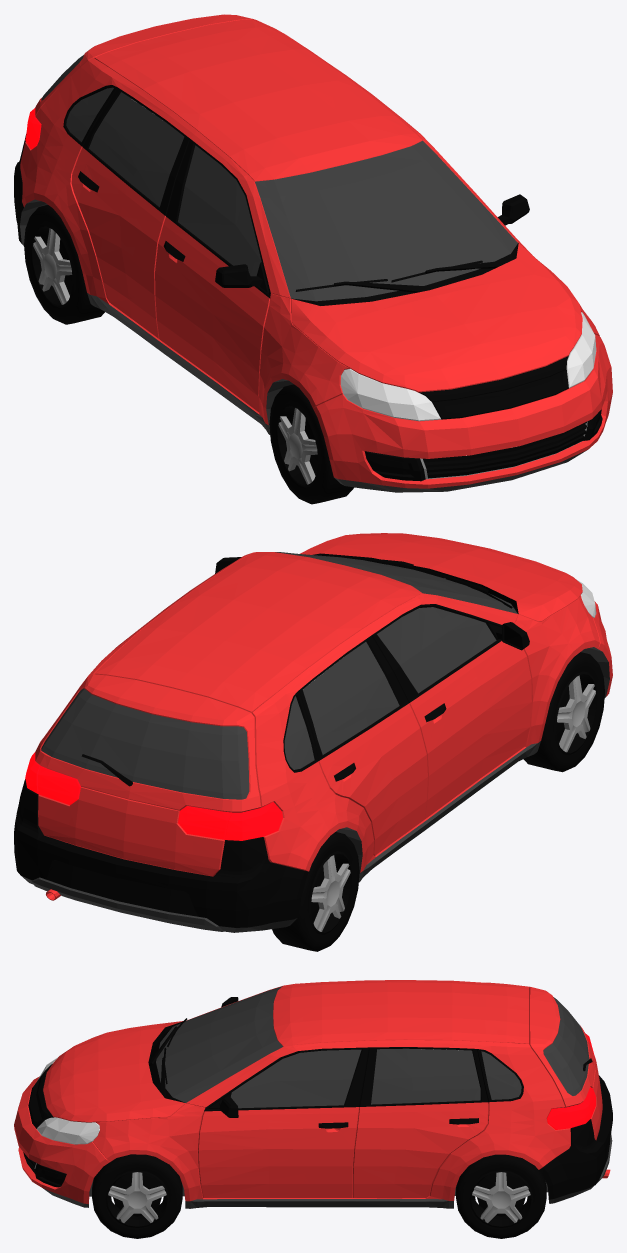
Rendered from AutoRojo.fbx.
3 views of the same model, one above another, from view 1: azimuth 30°, elevation 25°; view 2: azimuth 150°, elevation 25°; view 3: azimuth 270°, elevation 25° (orthographic). The views are drawn at different scales.
Visible parts, largest first — view 1: Wheel_B003.010; view 2: Wheel_B003.010; view 3: Wheel_B003.010.
Boxes of the visible parts, x1,y1,x2,y2 form: Wheel_B003.010: [14, 14, 612, 504]; Wheel_B003.010: [14, 533, 612, 951]; Wheel_B003.010: [14, 980, 612, 1238].
Size of the model in its own units: 196 by 152 by 445.
